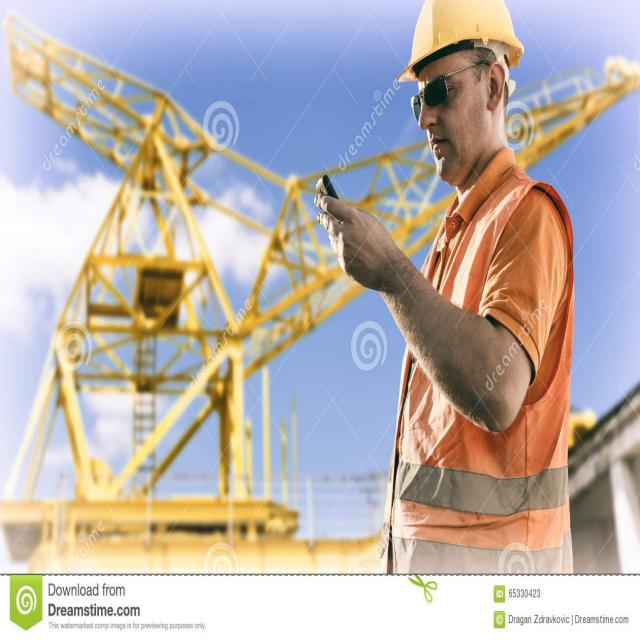Reflective-Jacket: (385, 158, 575, 571)
Safety-Helmet: (400, 0, 526, 85)
